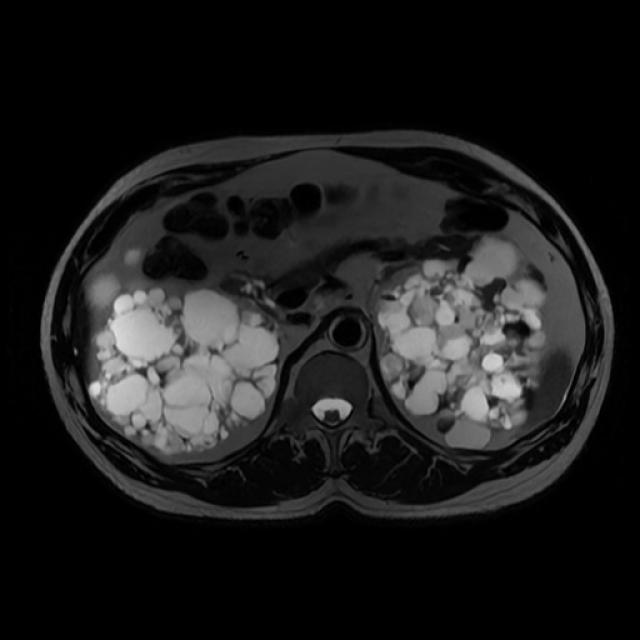sag: (85, 268, 280, 458)
sol: (375, 236, 549, 452)
